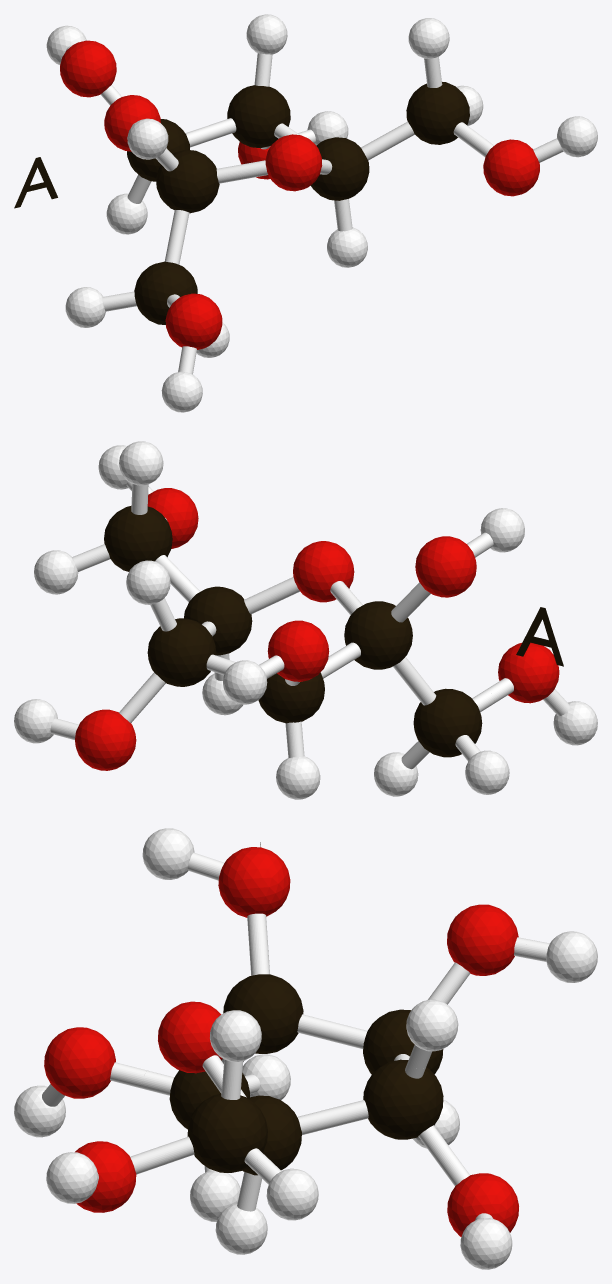
File: monosaccharide_a.glb
3 renders of one model, top to bottom at view 1: azimuth 30°, elevation 25°; view 2: azimuth 150°, elevation 25°; view 3: azimuth 270°, elevation 25°, orthographic. The views are drawn at different scales.
Parts seen in each view (by area): view 1: Shape_IndexedFaceSet.014_17, Shape_IndexedFaceSet.002_6, Shape_IndexedFaceSet.008_11, Shape_IndexedFaceSet.011_14, Shape_IndexedFaceSet.013_16, Shape_IndexedFaceSet.006_10, Shape_IndexedFaceSet.015_18, Shape_IndexedFaceSet_4, Shape_IndexedFaceSet.001_5, Shape_IndexedFaceSet.003_7, Shape_IndexedFaceSet.019_22, Shape_IndexedFaceSet.023_26 (+15 smaller); view 2: Shape_IndexedFaceSet.008_11, Shape_IndexedFaceSet.002_6, Shape_IndexedFaceSet.001_5, Shape_IndexedFaceSet.014_17, Shape_IndexedFaceSet.003_7, Shape_IndexedFaceSet.010_13, Shape_IndexedFaceSet.011_14, Shape_IndexedFaceSet.006_10, Shape_IndexedFaceSet.013_16, Shape_IndexedFaceSet_4, Shape_IndexedFaceSet.004_8, Shape_IndexedFaceSet.015_18 (+18 smaller); view 3: Shape_IndexedFaceSet.014_17, Shape_IndexedFaceSet.008_11, Shape_IndexedFaceSet_4, Shape_IndexedFaceSet.003_7, Shape_IndexedFaceSet.006_10, Shape_IndexedFaceSet.002_6, Shape_IndexedFaceSet.013_16, Shape_IndexedFaceSet.010_13, Shape_IndexedFaceSet.015_18, Shape_IndexedFaceSet.004_8, Shape_IndexedFaceSet.011_14, Shape_IndexedFaceSet.009_12 (+22 smaller).
Boxes of the visible parts, bbox=[...] form: Shape_IndexedFaceSet.014_17: bbox=[406, 82, 469, 144]; Shape_IndexedFaceSet.002_6: bbox=[156, 149, 219, 213]; Shape_IndexedFaceSet.008_11: bbox=[227, 85, 290, 148]; Shape_IndexedFaceSet.011_14: bbox=[310, 137, 369, 200]; Shape_IndexedFaceSet.013_16: bbox=[265, 134, 322, 191]; Shape_IndexedFaceSet.006_10: bbox=[60, 40, 116, 97]; Shape_IndexedFaceSet.015_18: bbox=[483, 139, 539, 196]; Shape_IndexedFaceSet_4: bbox=[165, 293, 222, 349]; Shape_IndexedFaceSet.001_5: bbox=[134, 261, 197, 324]; Shape_IndexedFaceSet.003_7: bbox=[104, 95, 160, 151]; Shape_IndexedFaceSet.019_22: bbox=[127, 118, 168, 159]; Shape_IndexedFaceSet.023_26: bbox=[408, 18, 449, 58]; Shape_IndexedFaceSet.008_11: bbox=[147, 618, 216, 686]; Shape_IndexedFaceSet.002_6: bbox=[344, 601, 412, 669]; Shape_IndexedFaceSet.001_5: bbox=[413, 688, 482, 757]; Shape_IndexedFaceSet.014_17: bbox=[104, 506, 172, 571]; Shape_IndexedFaceSet.003_7: bbox=[415, 536, 476, 597]; Shape_IndexedFaceSet.010_13: bbox=[75, 709, 136, 770]; Shape_IndexedFaceSet.011_14: bbox=[184, 586, 252, 655]; Shape_IndexedFaceSet.006_10: bbox=[267, 620, 329, 681]; Shape_IndexedFaceSet.013_16: bbox=[293, 541, 354, 602]; Shape_IndexedFaceSet_4: bbox=[498, 642, 559, 703]; Shape_IndexedFaceSet.004_8: bbox=[258, 672, 324, 723]; Shape_IndexedFaceSet.015_18: bbox=[147, 488, 198, 548]; Shape_IndexedFaceSet.014_17: bbox=[187, 1093, 267, 1172]; Shape_IndexedFaceSet.008_11: bbox=[363, 1059, 443, 1139]; Shape_IndexedFaceSet_4: bbox=[44, 1027, 115, 1098]; Shape_IndexedFaceSet.003_7: bbox=[218, 847, 290, 917]; Shape_IndexedFaceSet.006_10: bbox=[447, 904, 518, 975]; Shape_IndexedFaceSet.002_6: bbox=[223, 974, 303, 1053]; Shape_IndexedFaceSet.013_16: bbox=[158, 1001, 222, 1073]; Shape_IndexedFaceSet.010_13: bbox=[447, 1173, 518, 1236]; Shape_IndexedFaceSet.015_18: bbox=[75, 1141, 136, 1212]; Shape_IndexedFaceSet.004_8: bbox=[363, 1009, 443, 1074]; Shape_IndexedFaceSet.011_14: bbox=[242, 1095, 301, 1175]; Shape_IndexedFaceSet.009_12: bbox=[406, 999, 458, 1051].
Size of the model in its own units: 77.47 by 40.36 by 61.44.
